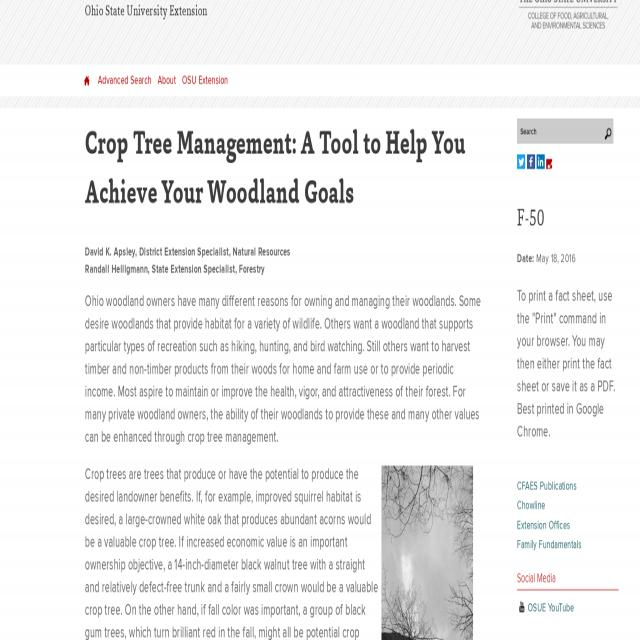button: (381, 464, 473, 640), (517, 155, 525, 169), (527, 155, 535, 169), (537, 155, 545, 169), (84, 75, 90, 86)
field: (518, 120, 614, 142)
